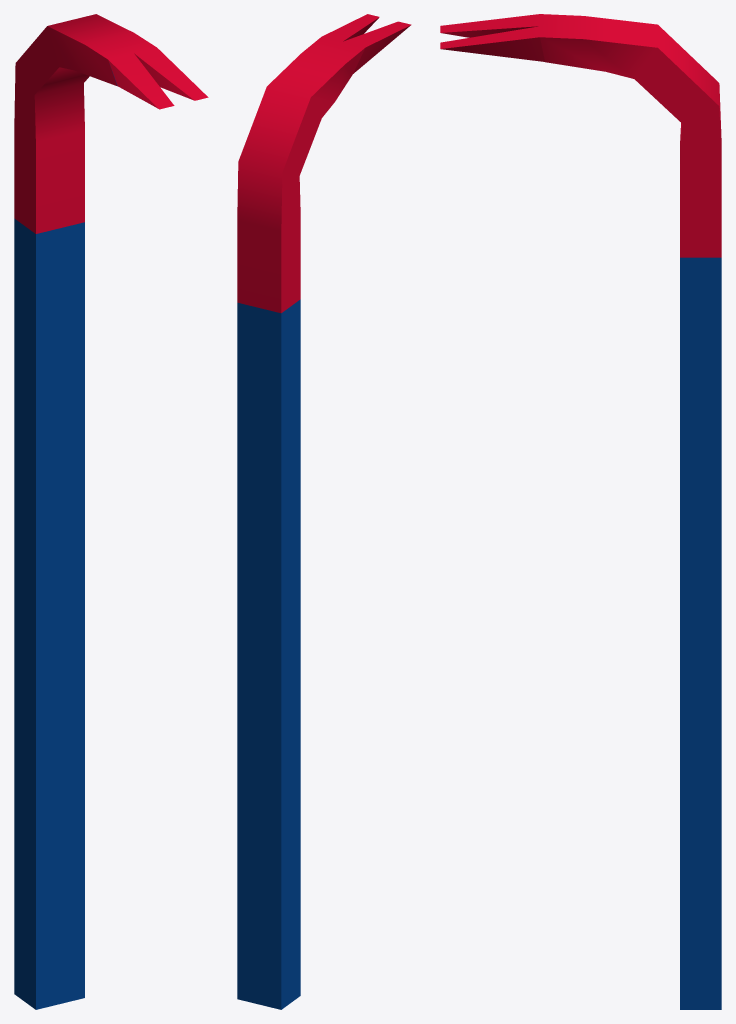
Rendered from bar.fbx.
3 views of the same model, side by side, from view 1: azimuth 30°, elevation 25°; view 2: azimuth 150°, elevation 25°; view 3: azimuth 270°, elevation 25° (orthographic). The views are drawn at different scales.
Visible parts, largest first — view 1: pCube1; view 2: pCube1; view 3: pCube1.
Part boxes in pixels (bbox=[...]): pCube1: bbox=[14, 14, 208, 1009]; pCube1: bbox=[237, 14, 411, 1009]; pCube1: bbox=[440, 14, 721, 1009].
Size of the model in its own units: 0.7455 by 14.55 by 3.82.
